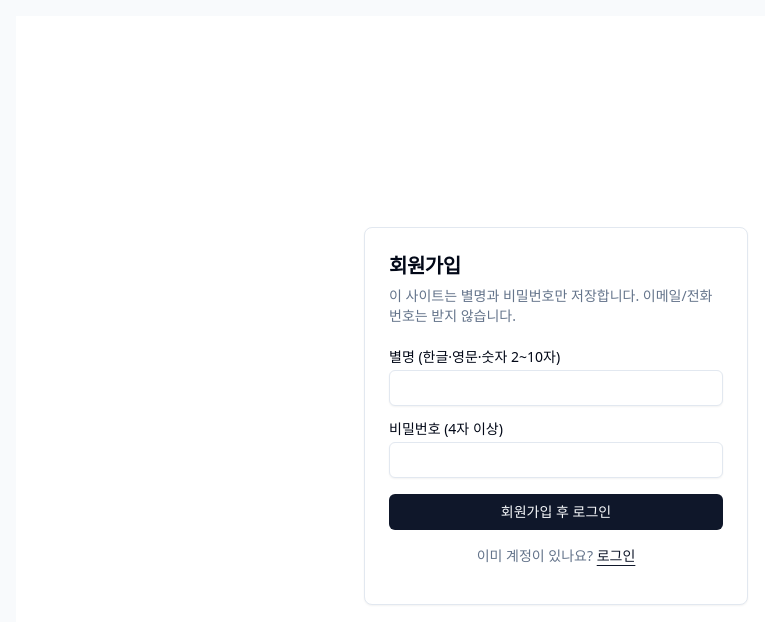
RegisterPage — 가입 뒤 목적지 (D-133) › "로그인" 링크로 돌아가도 돌아갈 주소를 넘긴다 — 초대 안내가 사라지지 않게
Click the link "로그인" at [616, 556], box x1=597 y1=546 x2=635 y2=565
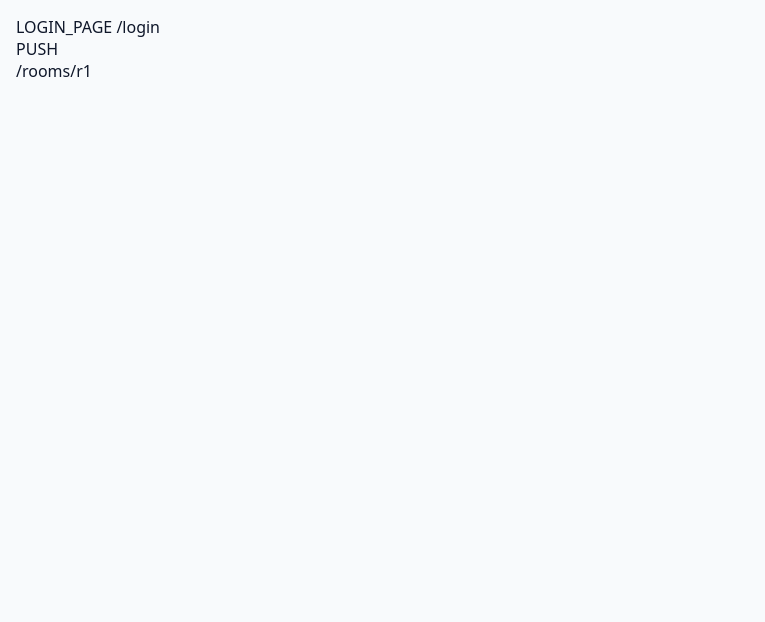
Expected: the text "LOGIN_PAGE /login" is shown, x1=16 y1=16 x2=160 y2=38
Expected: the text with test id "state-from" reads "/rooms/r1", x1=16 y1=60 x2=92 y2=82
